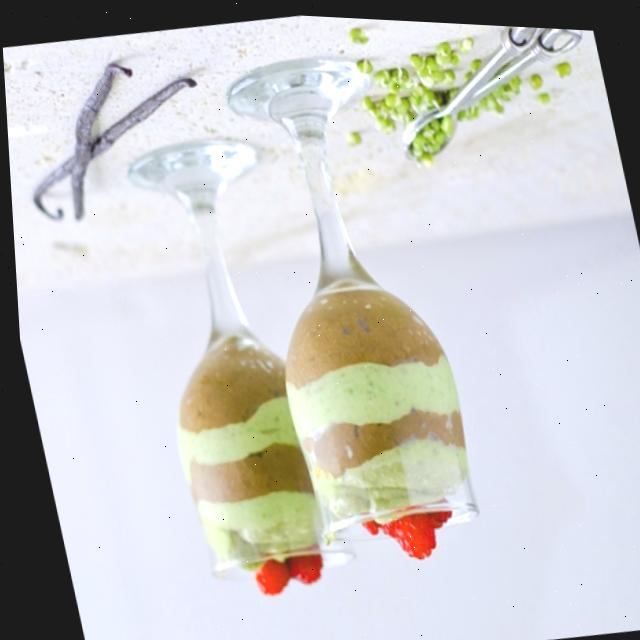蛋糕甜品: (60, 32, 543, 640)
